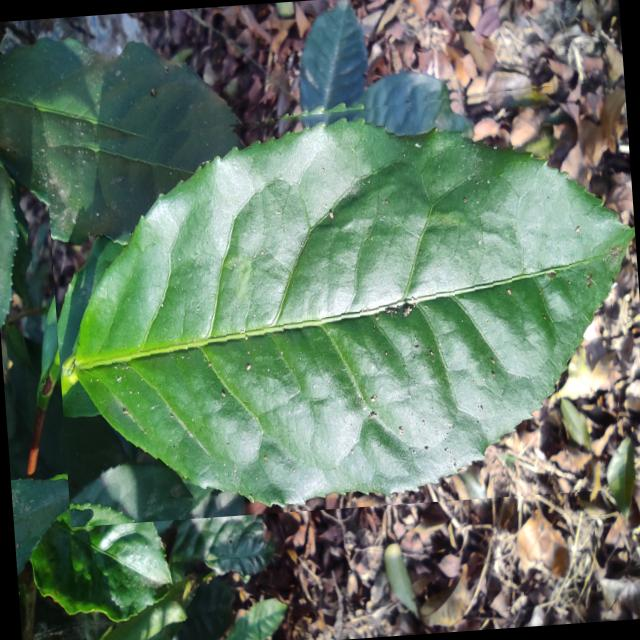Category D(7+ days, Not for Tea): (42, 76, 640, 527)
